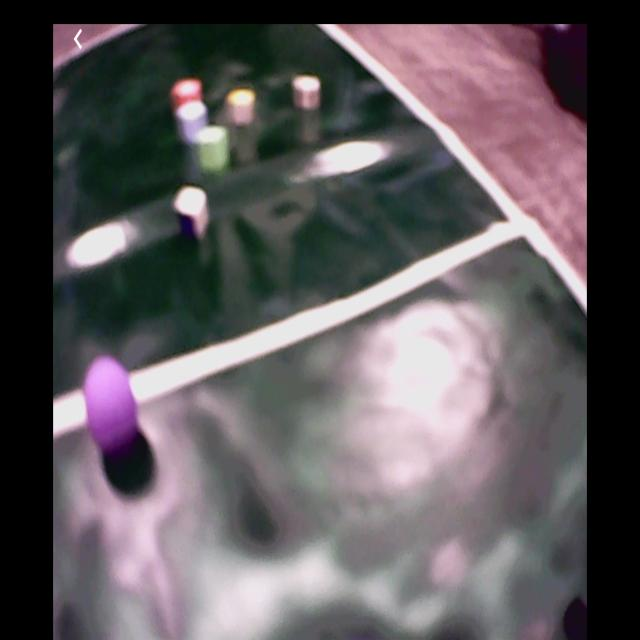ball: (84, 359, 141, 454)
